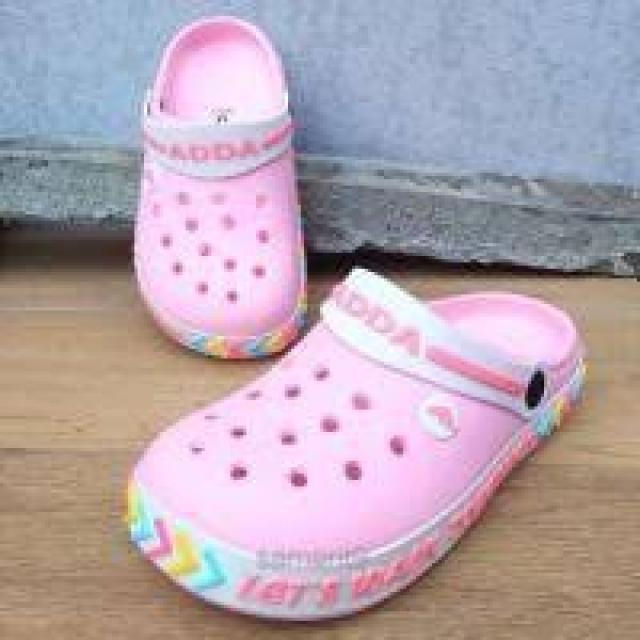shoe: (125, 14, 582, 622), (125, 268, 577, 618), (144, 19, 298, 362)
